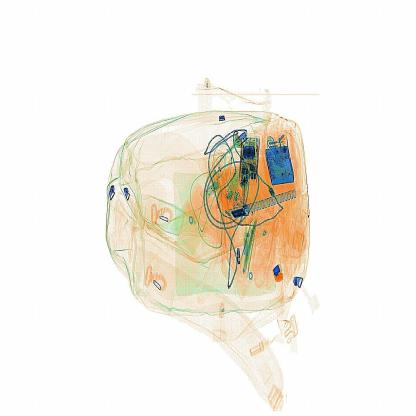wrench: (269, 261, 288, 290)
